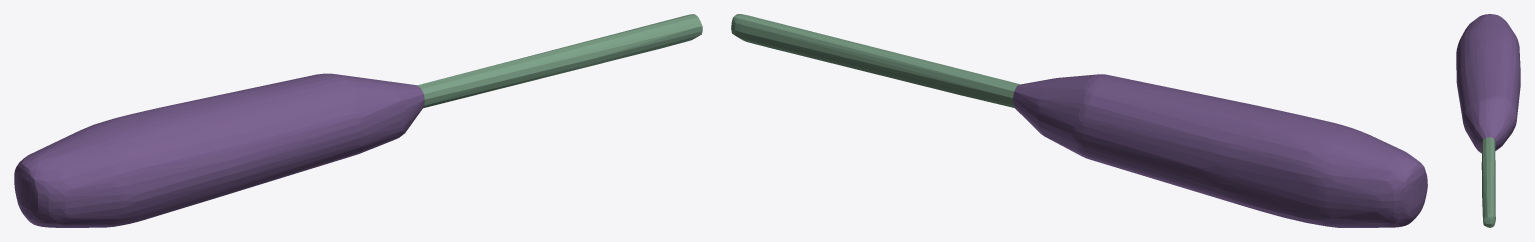
File: long_screwdriver.obj
3 views of the same model, side by side, from view 1: azimuth 30°, elevation 25°; view 2: azimuth 150°, elevation 25°; view 3: azimuth 270°, elevation 25° (orthographic). The views are drawn at different scales.
Visible parts, largest first — view 1: geometry_1, geometry_0; view 2: geometry_1, geometry_0; view 3: geometry_1, geometry_0.
Part boxes in pixels (x1,y1,x2,y2): geometry_1: (14,73,424,227); geometry_0: (418,14,702,108); geometry_1: (1013,74,1427,227); geometry_0: (731,14,1020,107); geometry_1: (1456,14,1520,153); geometry_0: (1481,137,1495,227).
Size of the model in its own units: 0.263 by 0.0327 by 0.0365.
